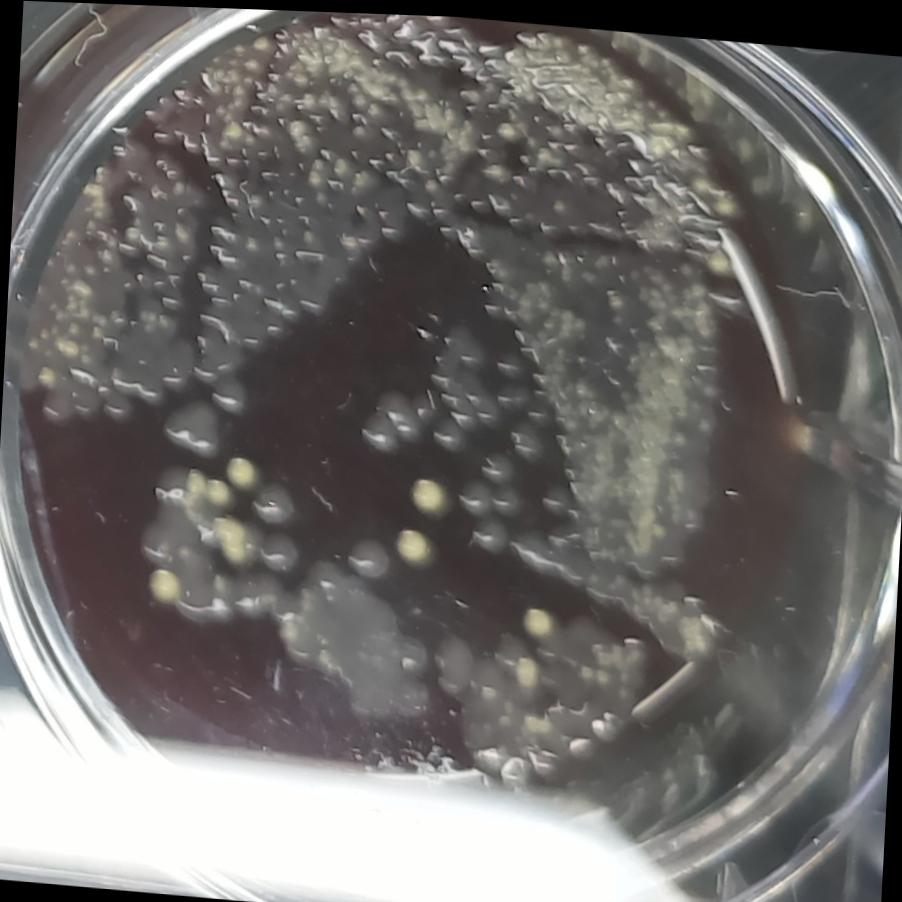asalmonicida: (352, 380, 422, 450), (158, 390, 228, 457), (427, 625, 478, 697), (432, 315, 489, 371), (250, 474, 300, 527), (342, 526, 391, 577), (257, 525, 303, 574), (465, 510, 509, 558), (208, 374, 252, 420), (433, 413, 473, 456), (508, 416, 547, 460), (475, 445, 518, 483), (454, 474, 496, 512), (100, 385, 136, 427), (490, 479, 526, 518)
